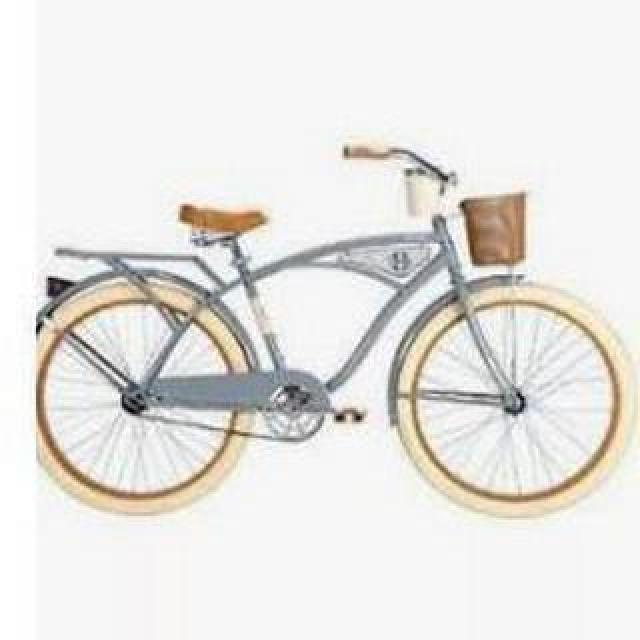Person: (30, 141, 628, 529)
